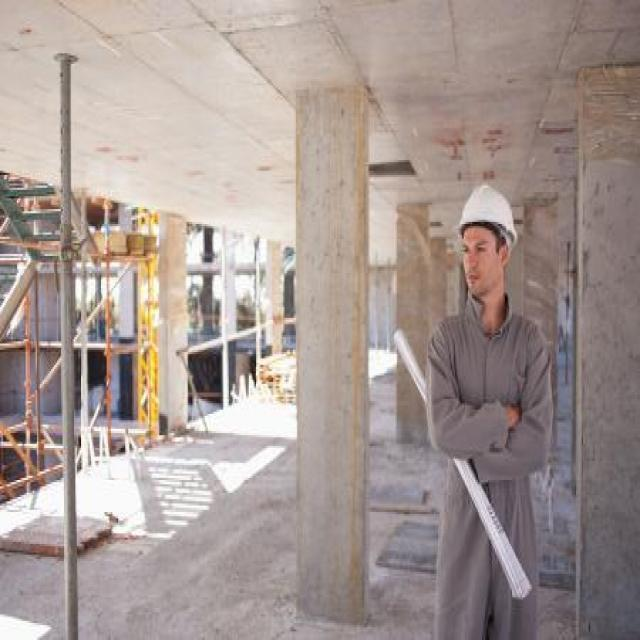hat: (448, 173, 521, 303)
